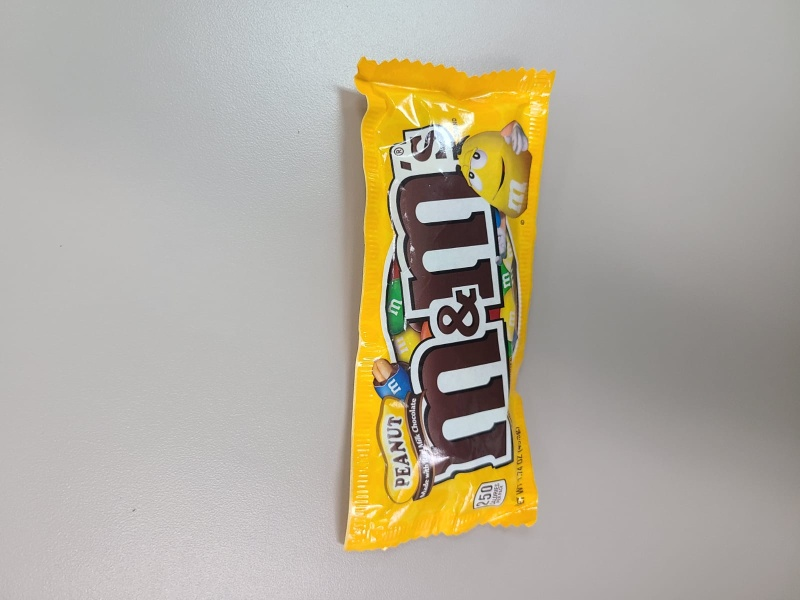m&m: (343, 56, 559, 553)
